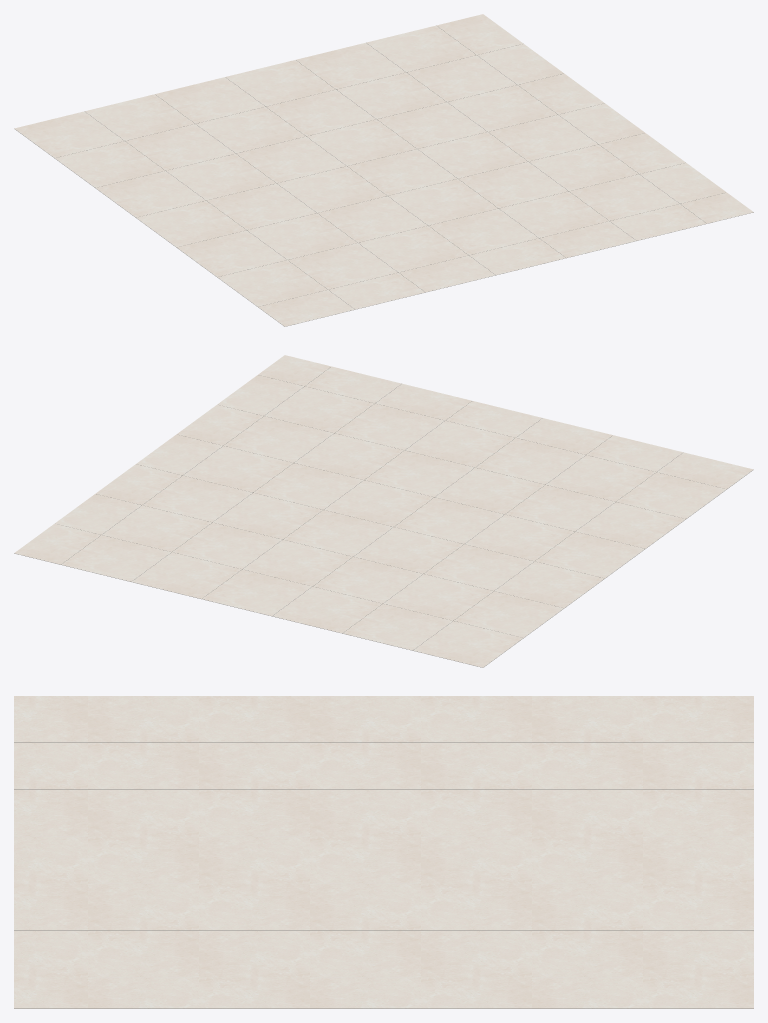
Rendered from regina-120x120.glb.
The picture shows the model from 3 angles, top to bottom: view 1: azimuth 30°, elevation 25°; view 2: azimuth 150°, elevation 25°; view 3: azimuth 270°, elevation 25°; orthographic projection. The views are drawn at different scales.
Visible parts, largest first — view 1: Regina; view 2: Regina; view 3: Regina.
Boxes of the visible parts, x1,y1,x2,y2 form: Regina: (14, 14, 753, 326); Regina: (14, 355, 753, 667); Regina: (14, 696, 753, 1008).
Size of the model in its own units: 8 by 0.003 by 8.
2 materials, 1 textured.
